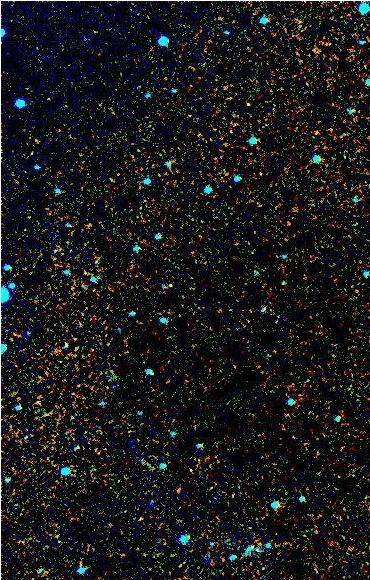star: (29, 95, 59, 125)
